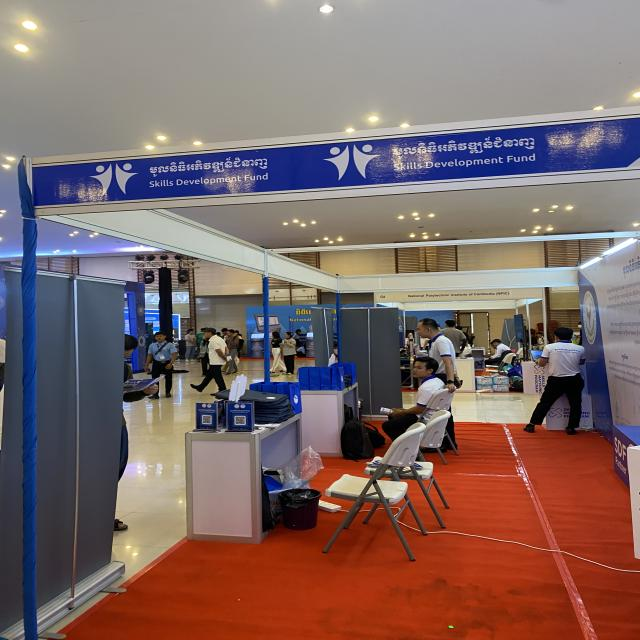Yolov11kh: (388, 131, 539, 162), (146, 152, 272, 179), (294, 306, 312, 316)
